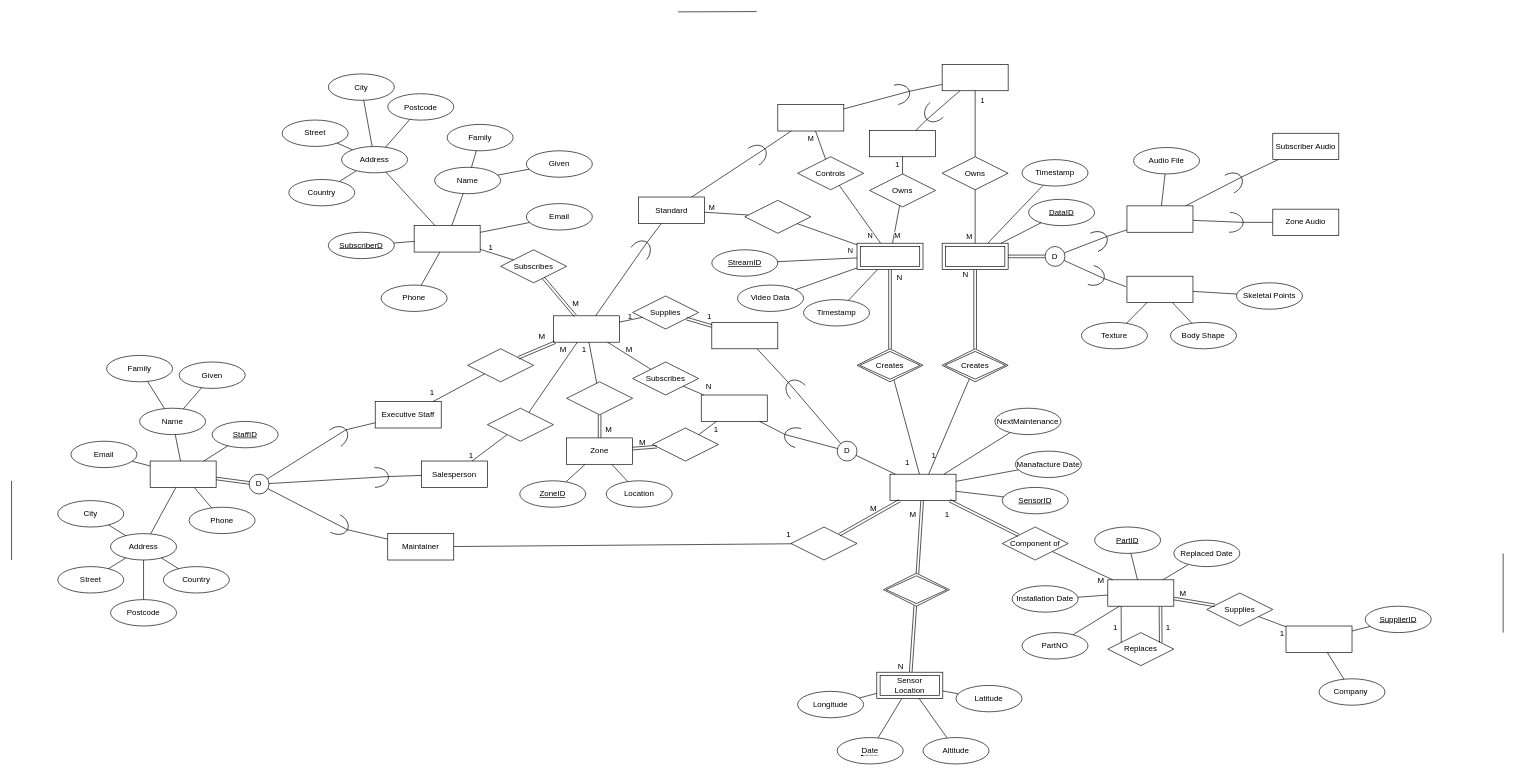
This 1515x776 diagram has some shape labels left out. Here are the shapes that lost their labels. From the top down, the centre of each, then its label:
At (974,77): "Platinum".
At (810,117): "Gold".
At (902,143): "Super Platinum".
At (777,216): "Access".
At (1159,218): "Audio".
At (446,238): "Subscriber".
At (889,256): "Video Stream".
At (974,256): "Data".
At (1159,289): "3D Imagery".
At (586,328): "Contract".
At (744,335): "Subscriber Sensor".
At (500,365): "Writes".
At (599,398): "Deploys".
At (734,407): "Zone Sensor".
At (520,424): "Sells".
At (685,444): "Contains".
At (182,473): "Staff".
At (922,487): "Sensor".
At (823,543): "Maintains".
At (916,589): "Tracks".
At (1140,592): "Part".
At (1318,638): "Supplier".
